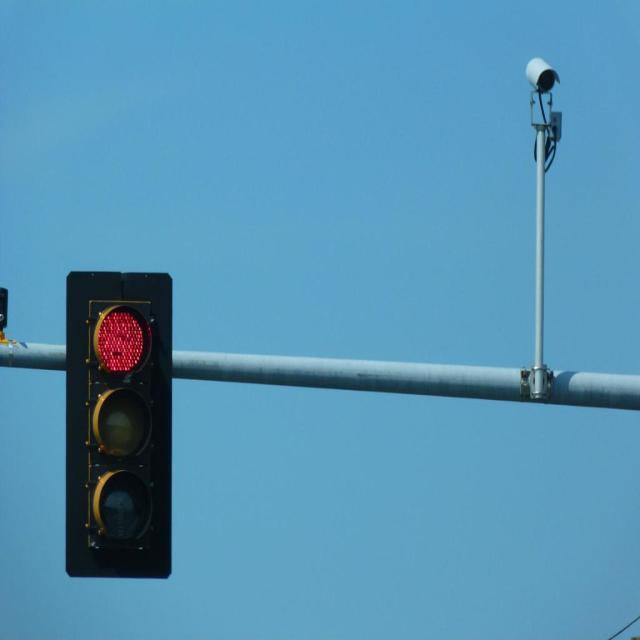traffic light: (73, 273, 178, 567)
